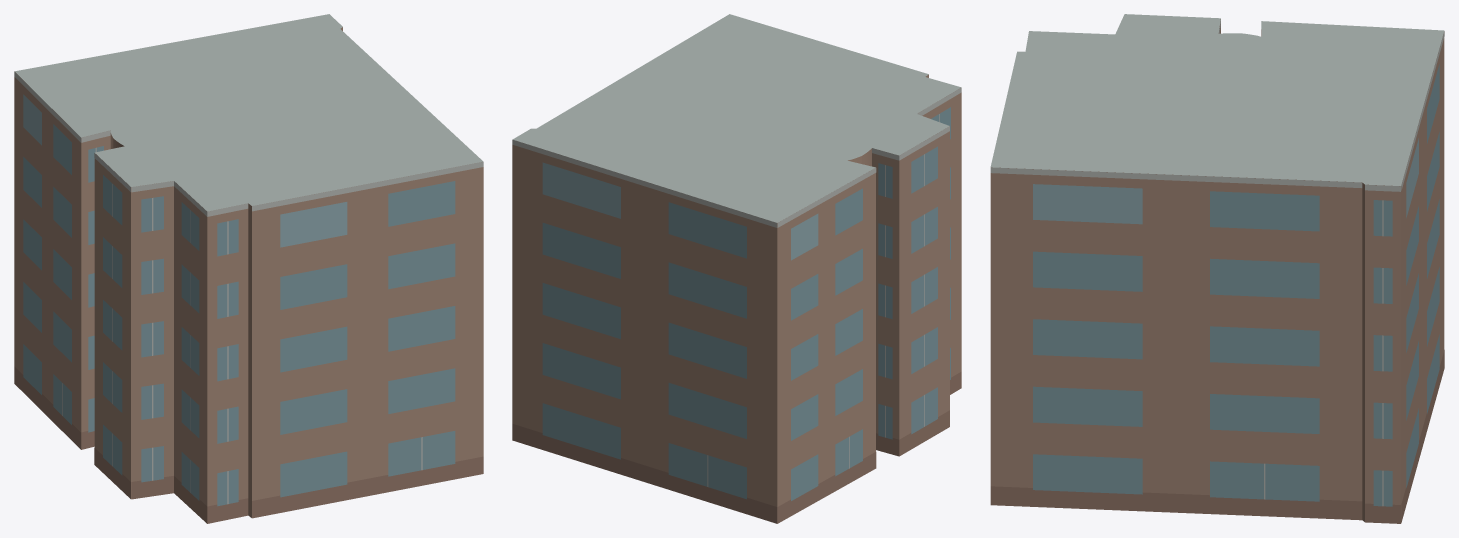
The model's file is survey-upis-32913464.glb.
3 views of the same model, side by side, from view 1: azimuth 30°, elevation 25°; view 2: azimuth 150°, elevation 25°; view 3: azimuth 270°, elevation 25° (orthographic). The views are drawn at different scales.
Parts seen in each view (by area): view 1: survey-upis-32913464.tmp; view 2: survey-upis-32913464.tmp; view 3: survey-upis-32913464.tmp.
Boxes of the visible parts, left/top/right/bottom form: survey-upis-32913464.tmp: left=14, top=14, right=483, bottom=523; survey-upis-32913464.tmp: left=512, top=14, right=961, bottom=523; survey-upis-32913464.tmp: left=990, top=14, right=1444, bottom=523.
Bounding box in the file's own units: 15.69 × 14.35 × 17.49.
